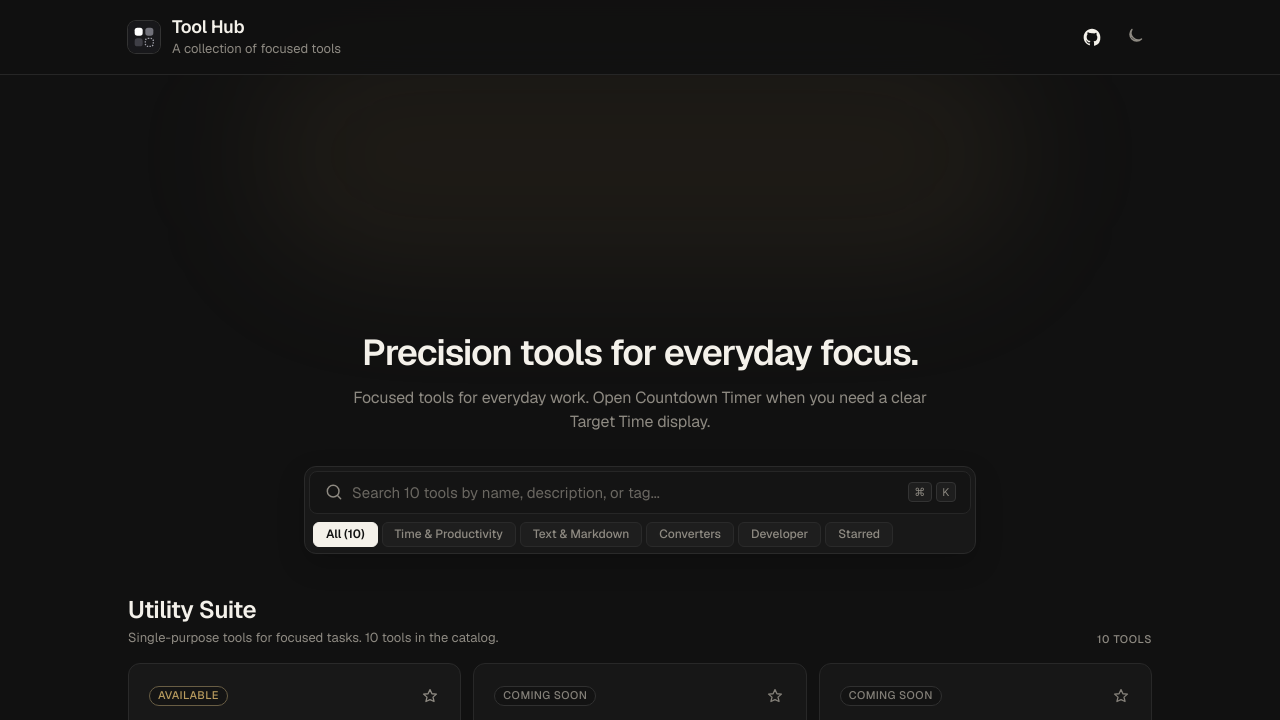
Test: Tool Hub homepage › shows an empty Starred state and returns to the full directory
The width and height of the screenshot is (1280, 720).
Click the button "Starred".
click(859, 534)  # box [825, 522, 893, 547]
(page scrolled)
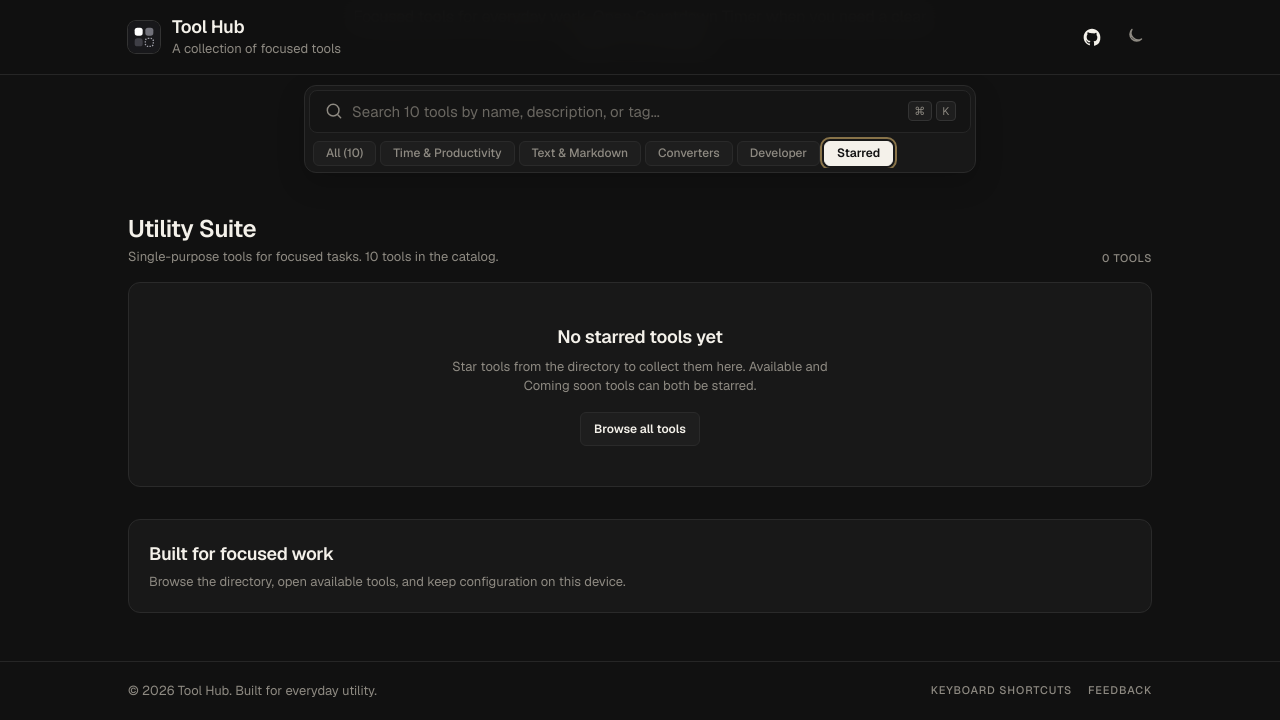
Result: the heading "No starred tools yet" is shown at [557, 323, 723, 350]
Result: the text "0 tools" is shown at [1102, 250, 1152, 266]
Click the button "Browse all tools".
click(640, 429)  # box [580, 412, 700, 446]
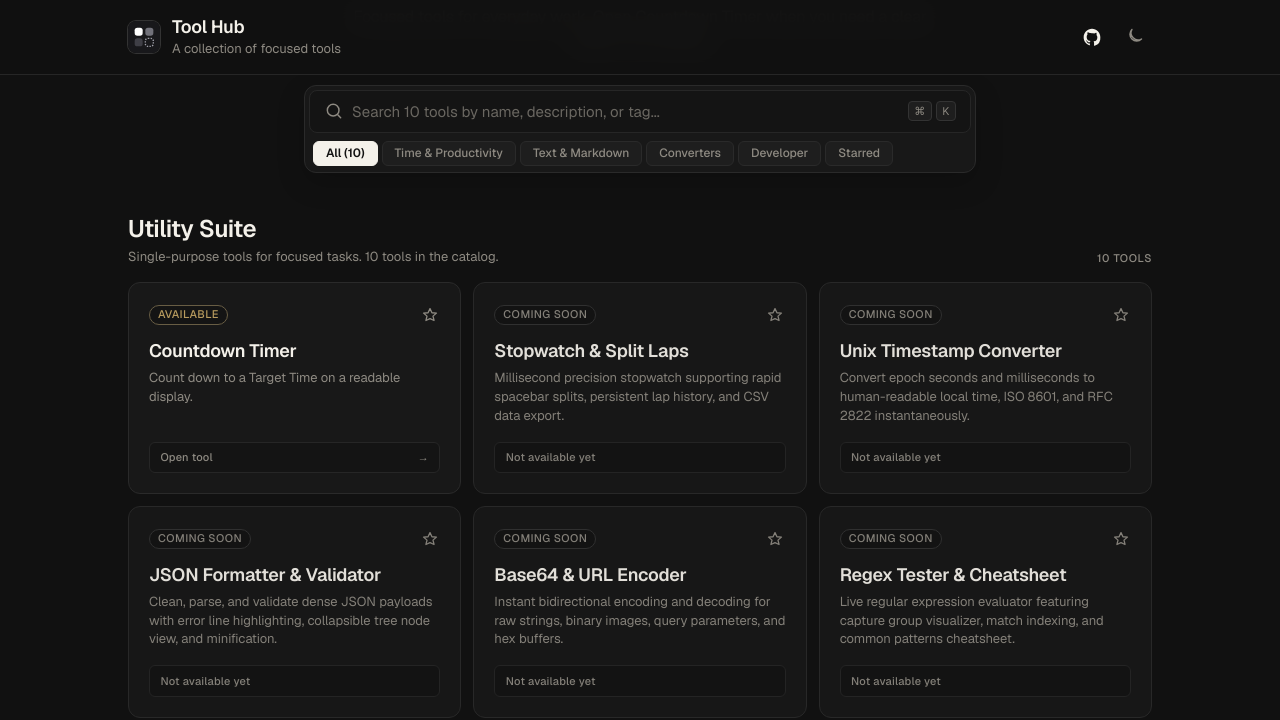
Result: the number of list items is 10
Click the button named "star countdown timer".
click(430, 315)  # box [414, 299, 446, 331]
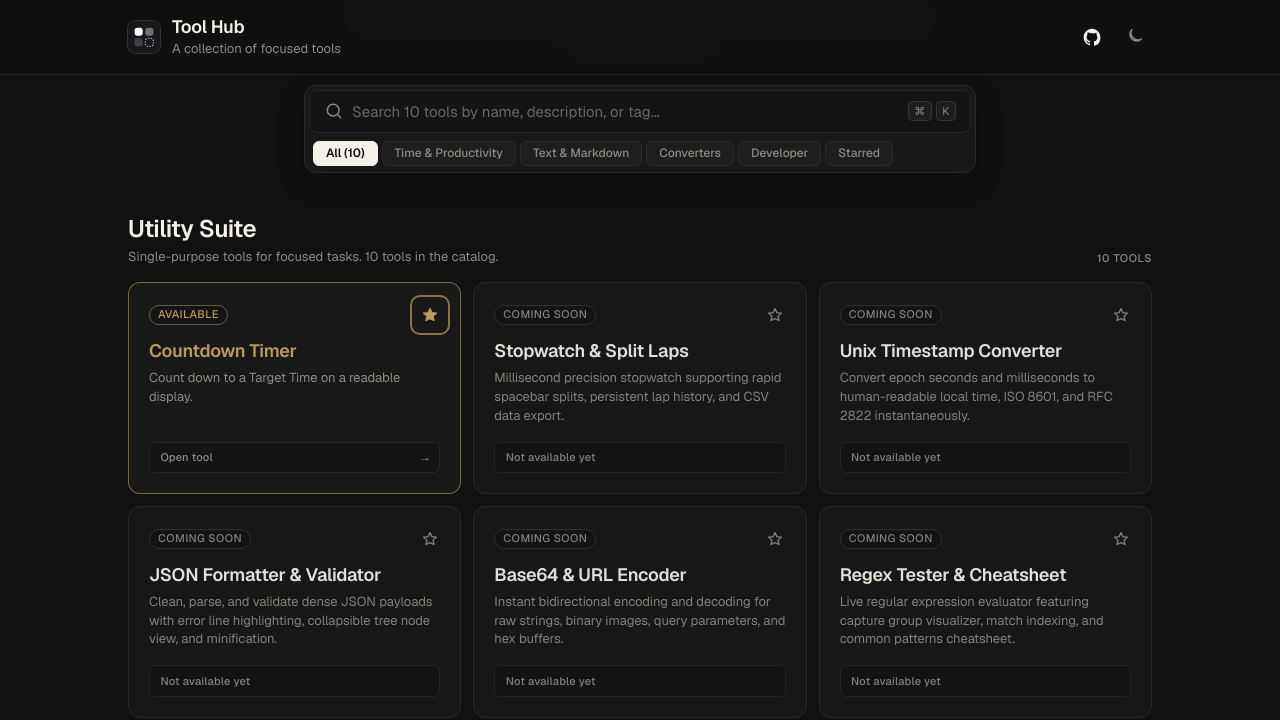
Click the button "Starred".
click(859, 153)  # box [825, 141, 893, 166]
(page scrolled)
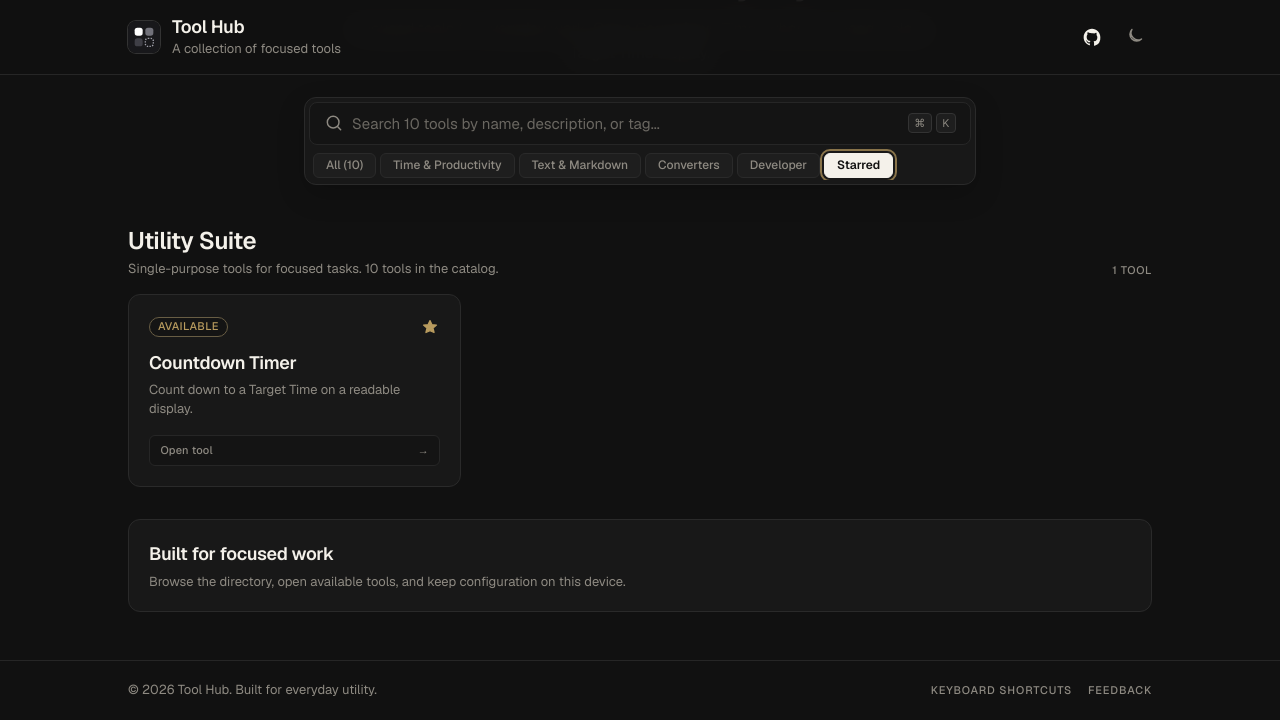
Result: the number of list items is 1 at [128, 294, 461, 487]
Click the button named "unstar countdown timer".
click(430, 327)  # box [414, 311, 446, 343]
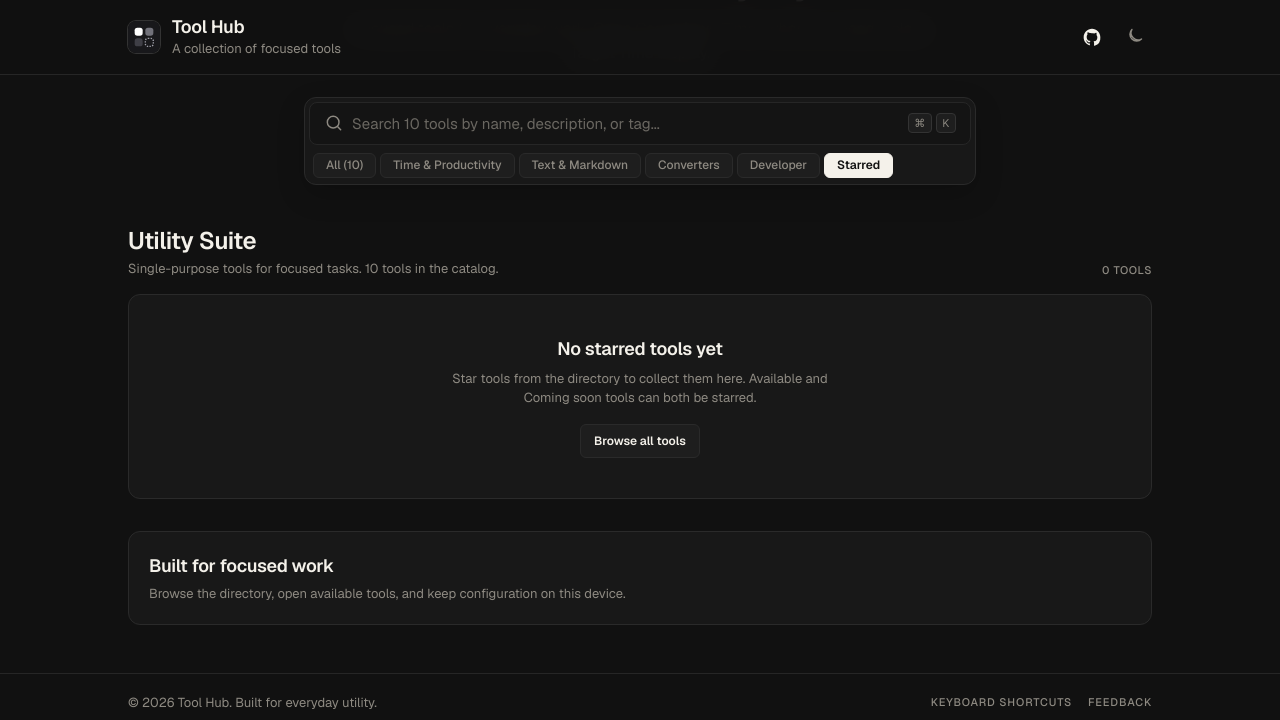
Result: the heading "No starred tools yet" is shown at [557, 335, 723, 362]
